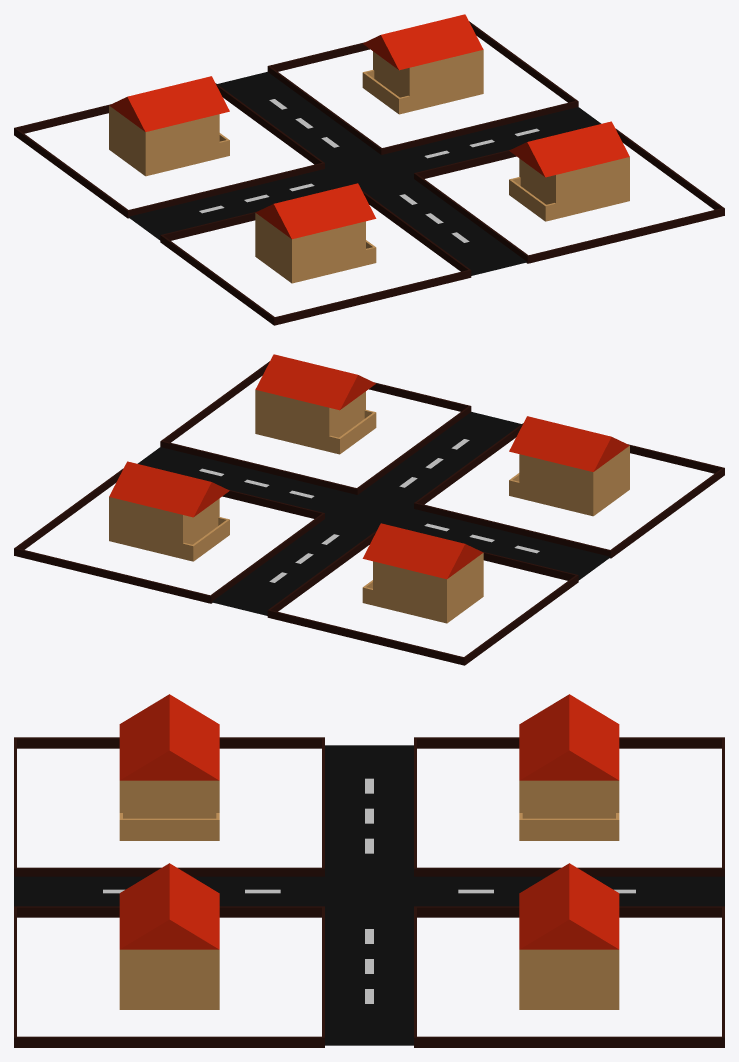
Rendered from House.obj.
3 renders of one model, top to bottom at view 1: azimuth 30°, elevation 25°; view 2: azimuth 150°, elevation 25°; view 3: azimuth 270°, elevation 25°, orthographic. The views are drawn at different scales.
Parts seen in each view (by area): view 1: Plane.015_Plane.001; view 2: Plane.015_Plane.001; view 3: Plane.015_Plane.001.
Part boxes in pixels (bbox=[...]): Plane.015_Plane.001: bbox=[14, 14, 724, 325]; Plane.015_Plane.001: bbox=[14, 354, 724, 665]; Plane.015_Plane.001: bbox=[14, 694, 724, 1047].
Size of the model in its own units: 1.99 by 0.281 by 1.99.
